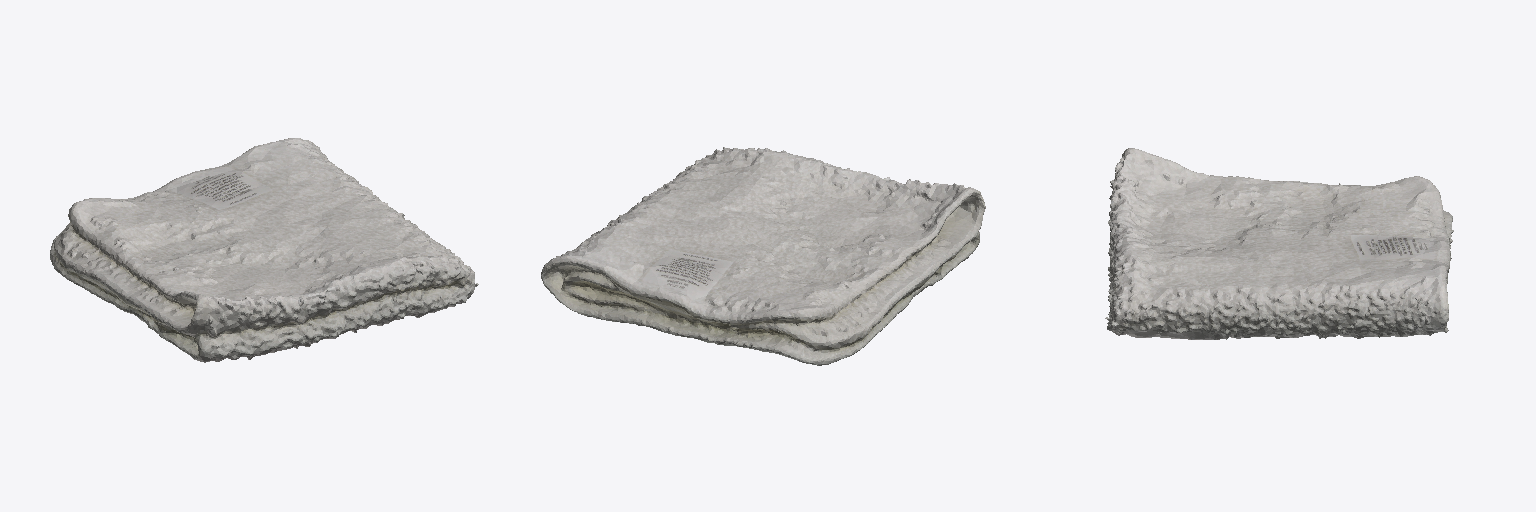
The picture shows the model from 3 angles: view 1: azimuth 30°, elevation 25°; view 2: azimuth 150°, elevation 25°; view 3: azimuth 270°, elevation 25°; orthographic projection.
Visible parts, largest first — view 1: group_0; view 2: group_0; view 3: group_0.
Part boxes in pixels (bbox=[...]): group_0: bbox=[50, 138, 478, 362]; group_0: bbox=[541, 147, 985, 365]; group_0: bbox=[1105, 148, 1453, 339].
Size of the model in its own units: 107 by 31.52 by 112.
1 materials, 1 textured.